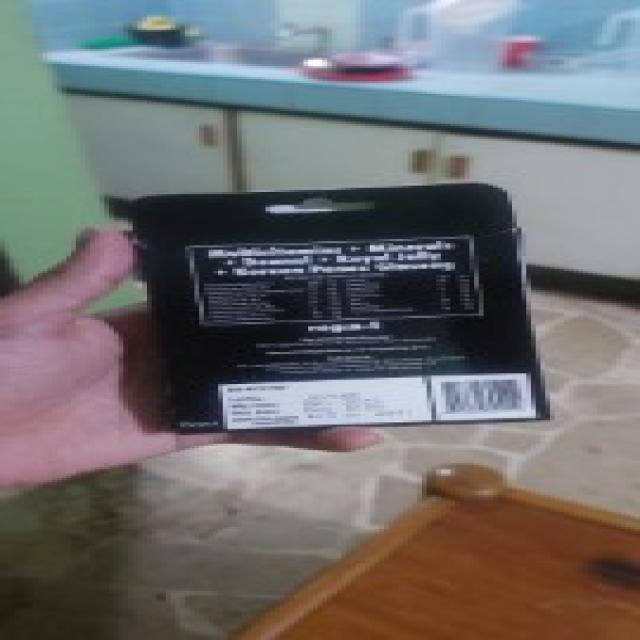Cacat: (127, 182, 540, 428)
